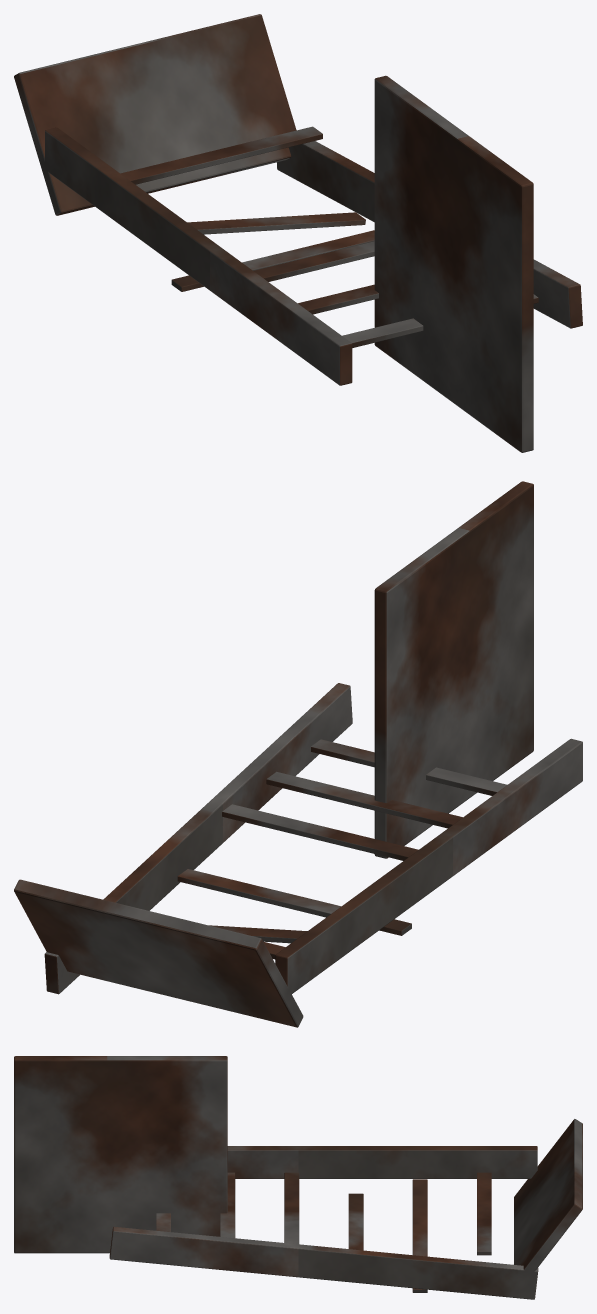
Rendered from BR09_broken_bed_frame_v2.glb.
3 renders of one model, top to bottom at view 1: azimuth 30°, elevation 25°; view 2: azimuth 150°, elevation 25°; view 3: azimuth 270°, elevation 25°, orthographic. The views are drawn at different scales.
Parts seen in each view (by area): view 1: BR09_broken_bed_frame_v2; view 2: BR09_broken_bed_frame_v2; view 3: BR09_broken_bed_frame_v2.
Part boxes in pixels (x1,y1,x2,y2): BR09_broken_bed_frame_v2: [14, 14, 582, 452]; BR09_broken_bed_frame_v2: [14, 481, 582, 1027]; BR09_broken_bed_frame_v2: [14, 1056, 582, 1299].
Bounding box in the file's own units: 0.7139 × 0.773 × 2.
Materials: 1 (1 with a texture image).
